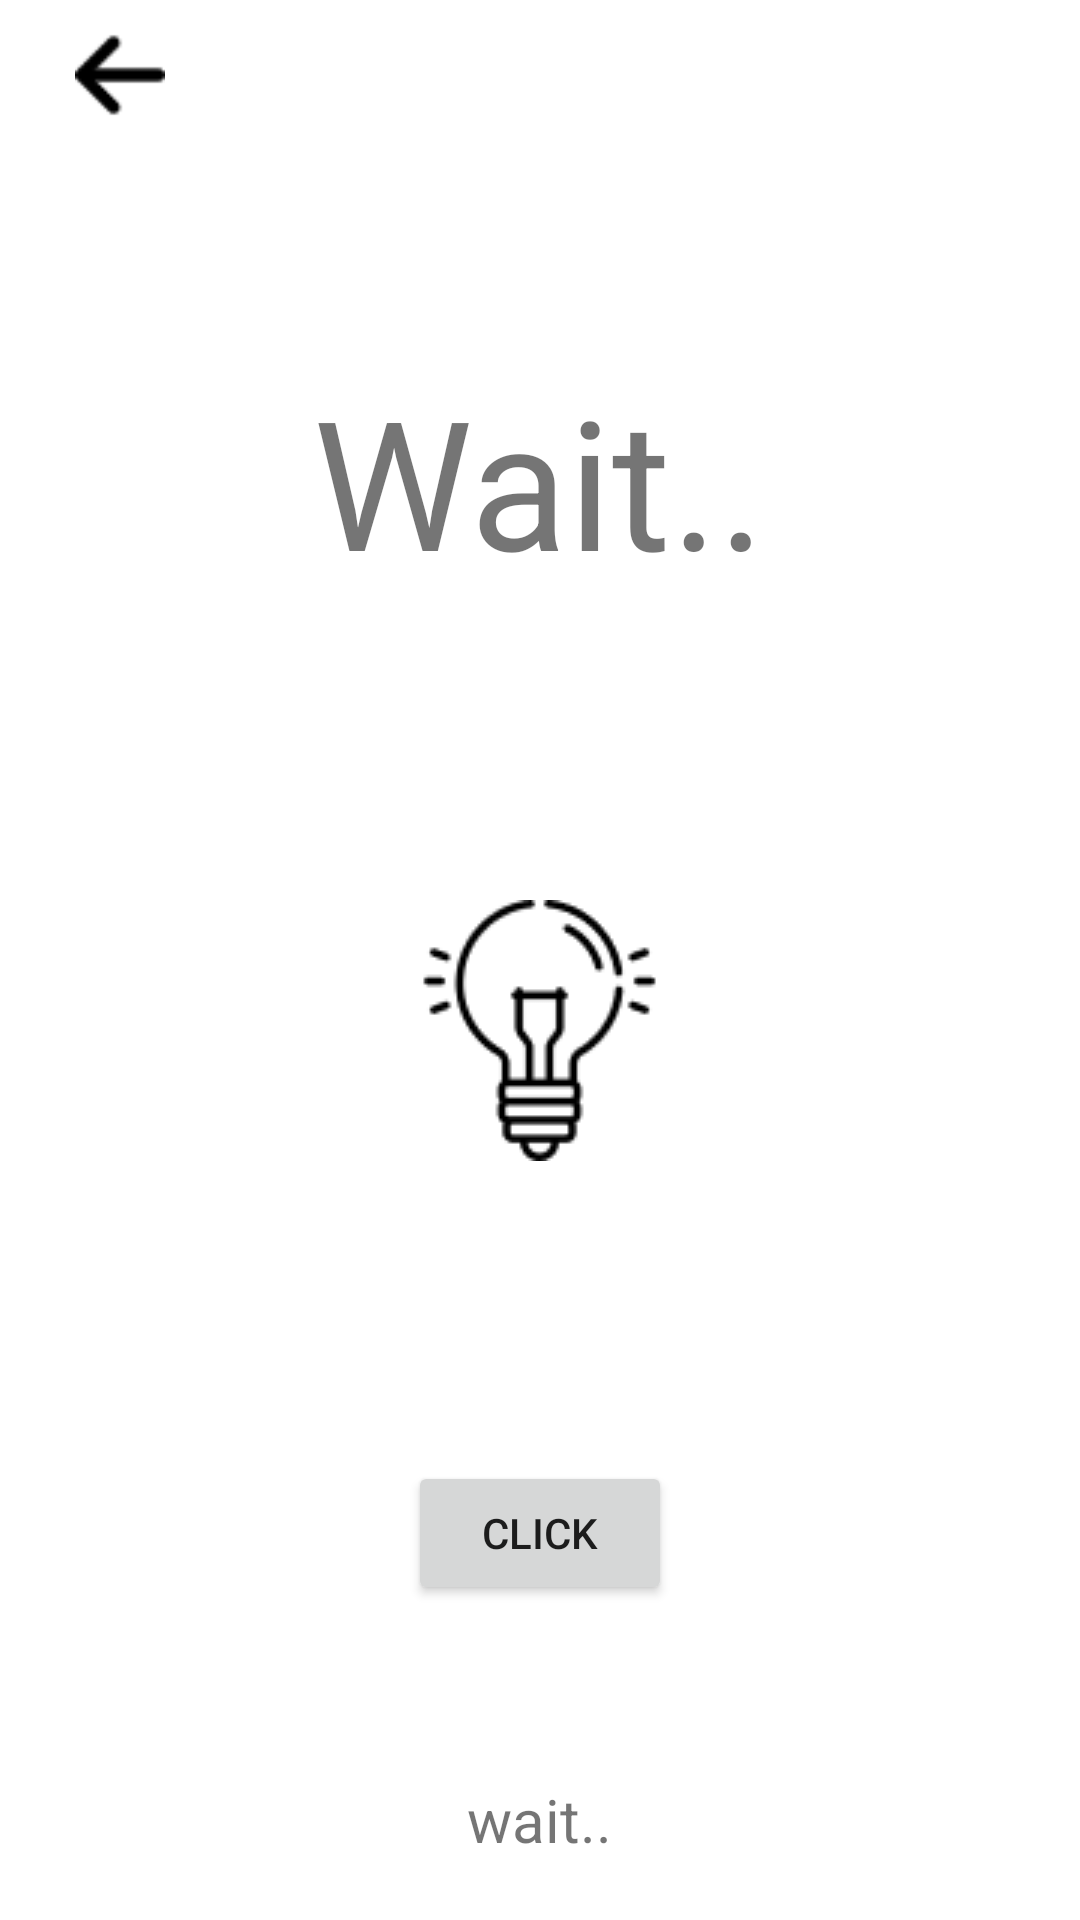

Named icons in this screenshot (1080*1920) and their centers, (x=x, y=y):
arrow: (x=120, y=75)
